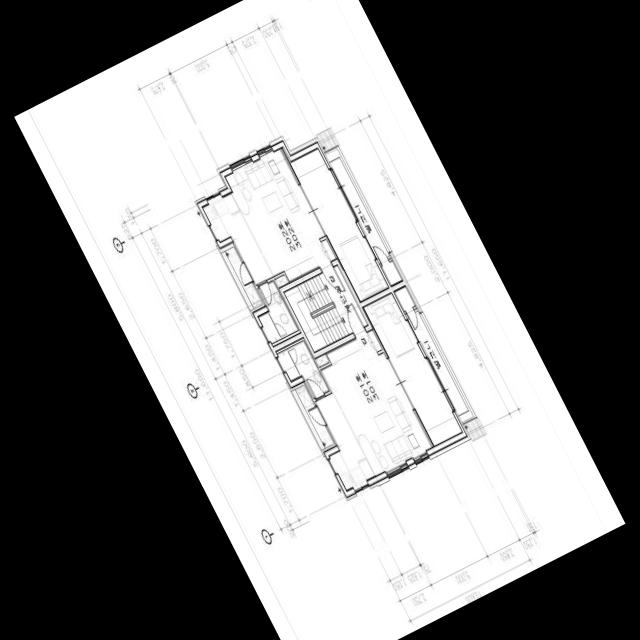background: (14, 0, 626, 640)
space_balconi: (406, 308, 468, 415), (329, 157, 391, 263), (225, 246, 265, 310), (295, 384, 334, 447)
space_bedroom: (290, 148, 388, 300), (364, 293, 462, 445)
space_front: (356, 330, 382, 361), (308, 238, 335, 266)
space_kitchen: (329, 433, 390, 490)
space_living_room: (202, 149, 324, 284), (316, 339, 431, 467)
space_other: (381, 260, 402, 285), (395, 286, 415, 310), (275, 274, 288, 287), (315, 354, 329, 366)
space_staircase: (284, 265, 368, 351)
space_toilet: (277, 340, 329, 398), (258, 280, 298, 343)
